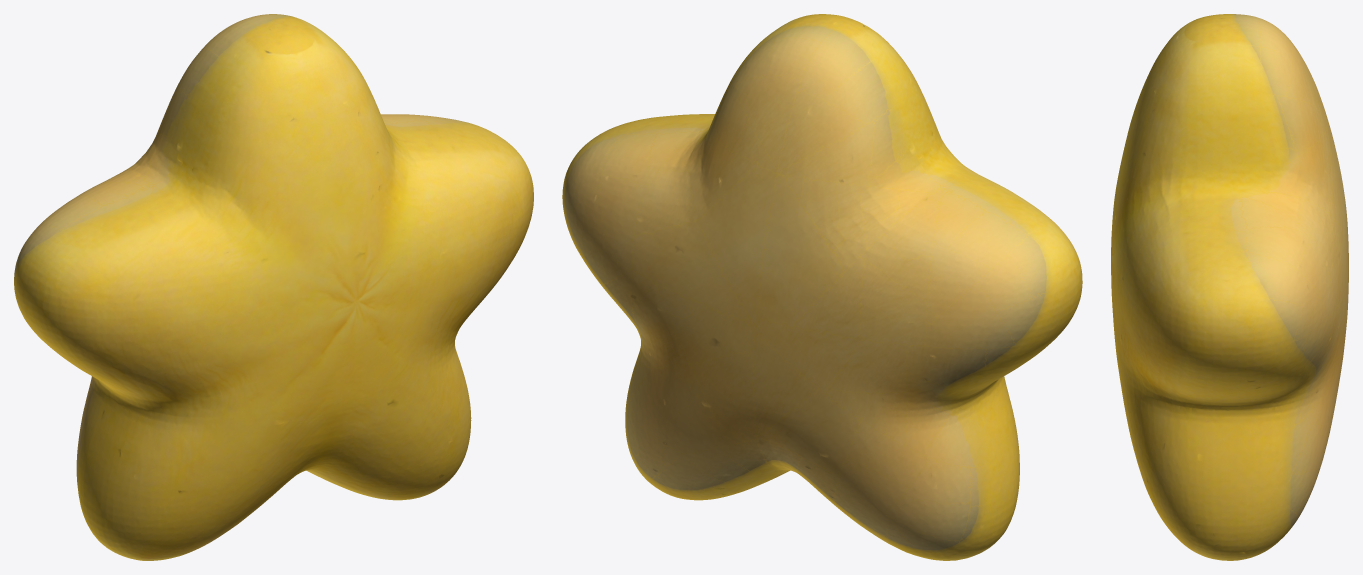
The model's file is Meshy_AI_Star_Glow_0106043711_texture.fbx.
3 views of the same model, side by side, from view 1: azimuth 30°, elevation 25°; view 2: azimuth 150°, elevation 25°; view 3: azimuth 270°, elevation 25° (orthographic). The views are drawn at different scales.
Visible parts, largest first — view 1: Mesh_0; view 2: Mesh_0; view 3: Mesh_0.
Boxes of the visible parts, x1,y1,x2,y2 form: Mesh_0: (14, 14, 533, 560); Mesh_0: (562, 14, 1082, 560); Mesh_0: (1111, 14, 1348, 560).
Size of the model in its own units: 200 by 193 by 87.94.
Materials: 1 (1 with a texture image).
